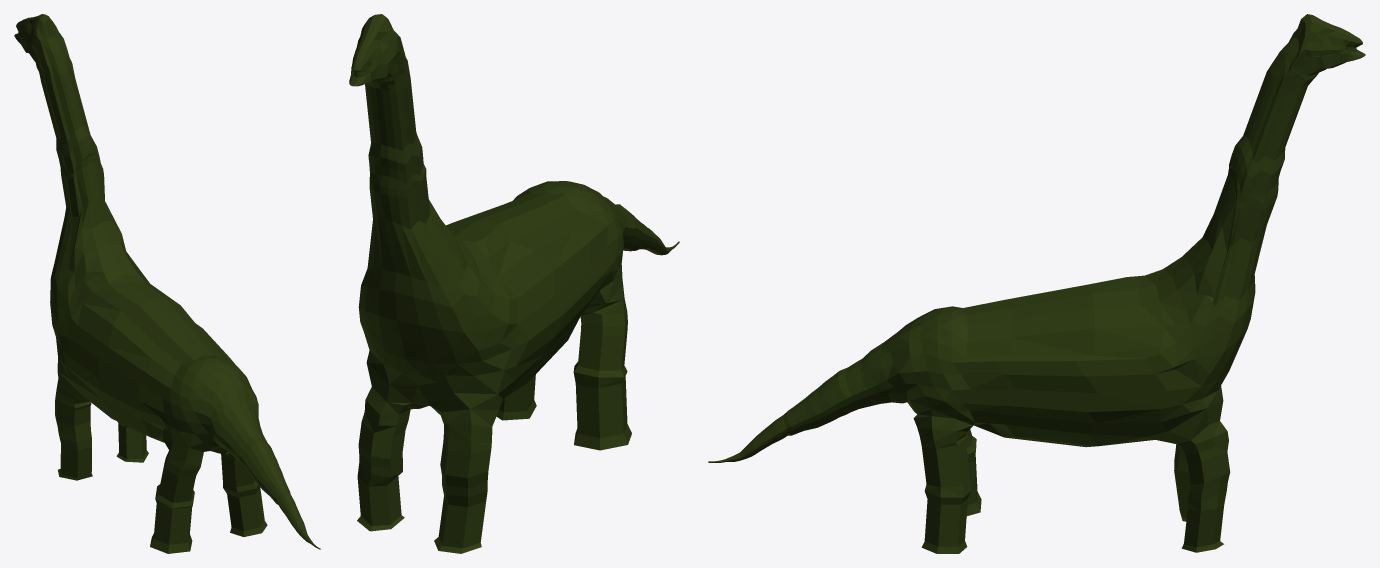
The model's file is dinosaur.dae.
The picture shows the model from 3 angles, left to right: view 1: azimuth 30°, elevation 25°; view 2: azimuth 150°, elevation 25°; view 3: azimuth 270°, elevation 25°; orthographic projection. The views are drawn at different scales.
Visible parts, largest first — view 1: Dino; view 2: Dino; view 3: Dino.
Boxes of the visible parts, box(x1,y1,x2,y2) form: Dino: box(14, 14, 320, 553); Dino: box(349, 14, 679, 553); Dino: box(708, 14, 1365, 553).
Bounding box in the file's own units: 2.68 × 11.32 × 9.71.
